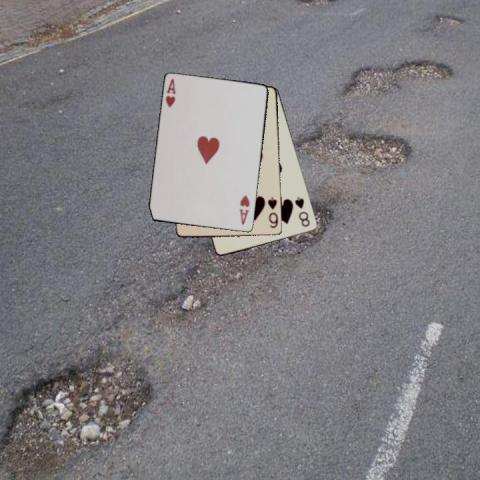6s: (265, 194, 279, 229)
8s: (292, 194, 311, 228)
Ah: (237, 192, 251, 226), (163, 76, 177, 109)
